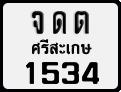letters: (40, 60, 60, 85), (81, 60, 100, 85), (61, 61, 80, 85), (51, 10, 67, 35), (74, 10, 90, 35), (31, 10, 45, 35), (25, 60, 36, 85)
province: (31, 38, 93, 56)
